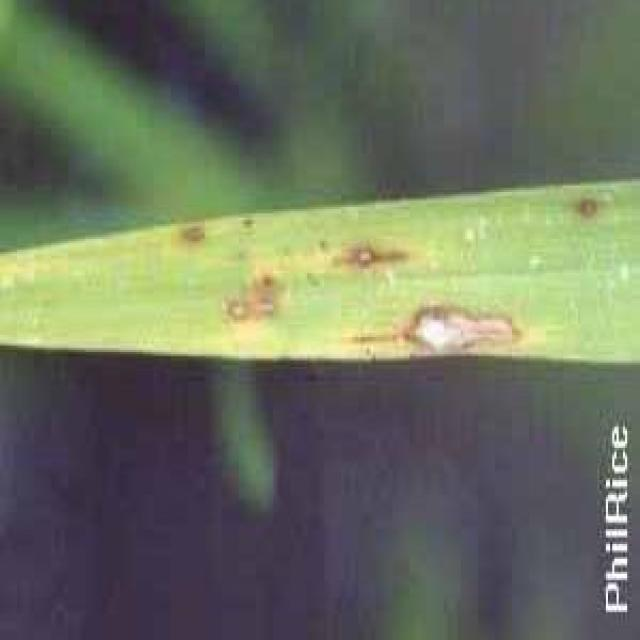Brown_Spot: (573, 196, 603, 224), (177, 223, 212, 245)
Rice_Blast: (386, 302, 535, 356), (216, 290, 280, 323), (341, 246, 400, 268)
